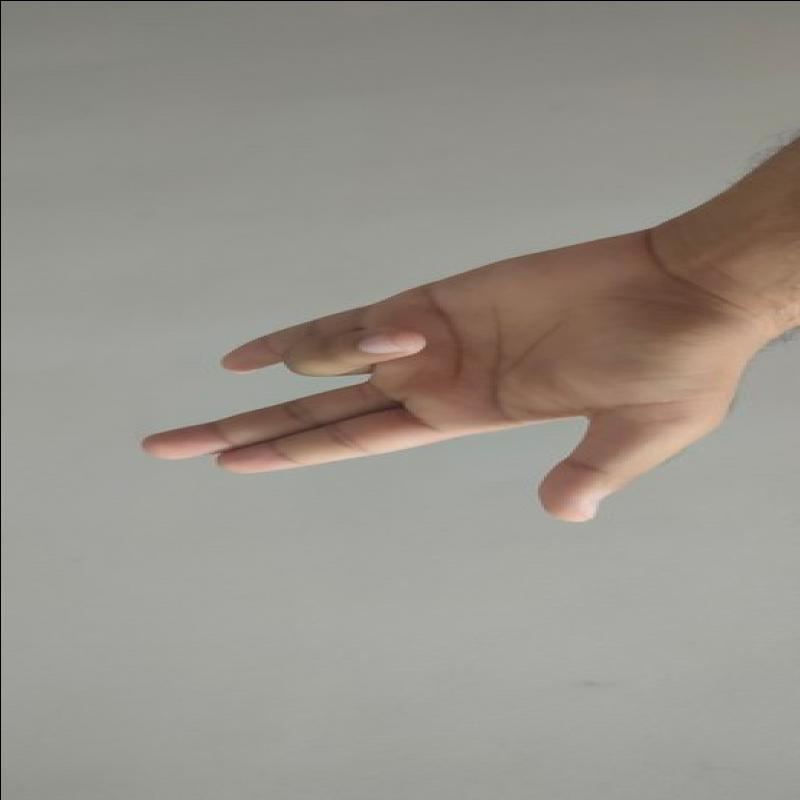Pathaaka: (125, 229, 762, 534)
